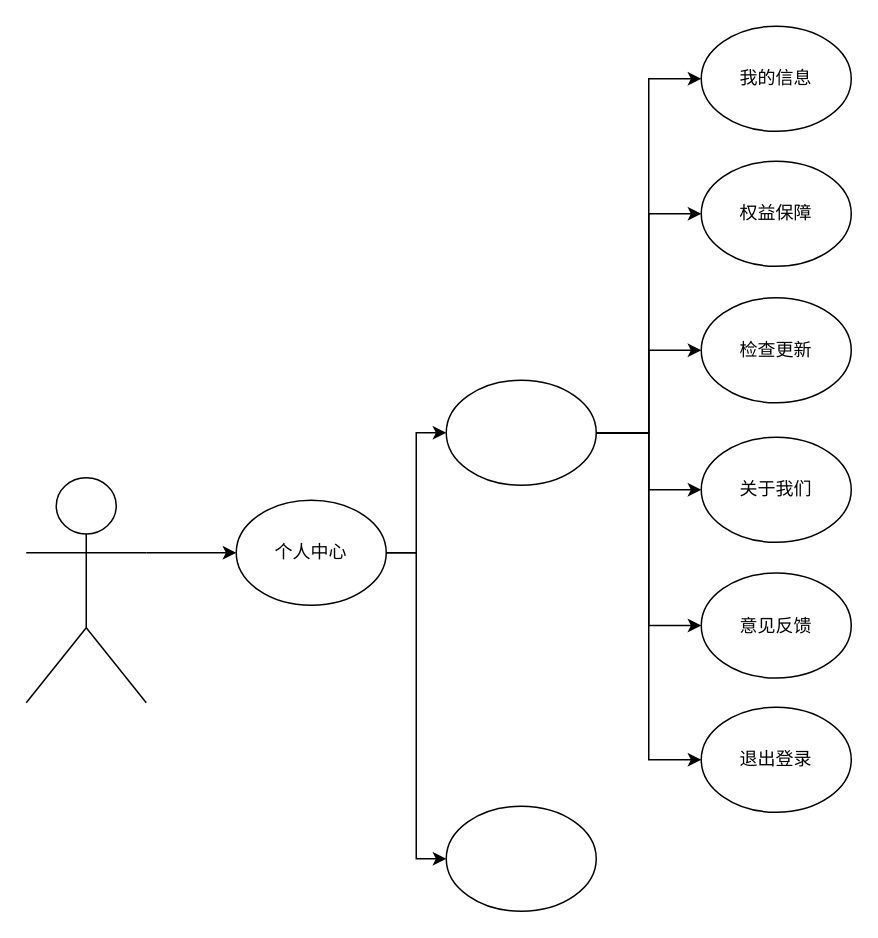
The diagram is 878 pixels wide and 938 high, and some of its shapes have lost their labels. Here are the shapes that lost their labels. From the top down, the box of each, then its label:
(445, 379, 596, 485): 登陆教务系统
(445, 805, 596, 911): 个人信息未认证
